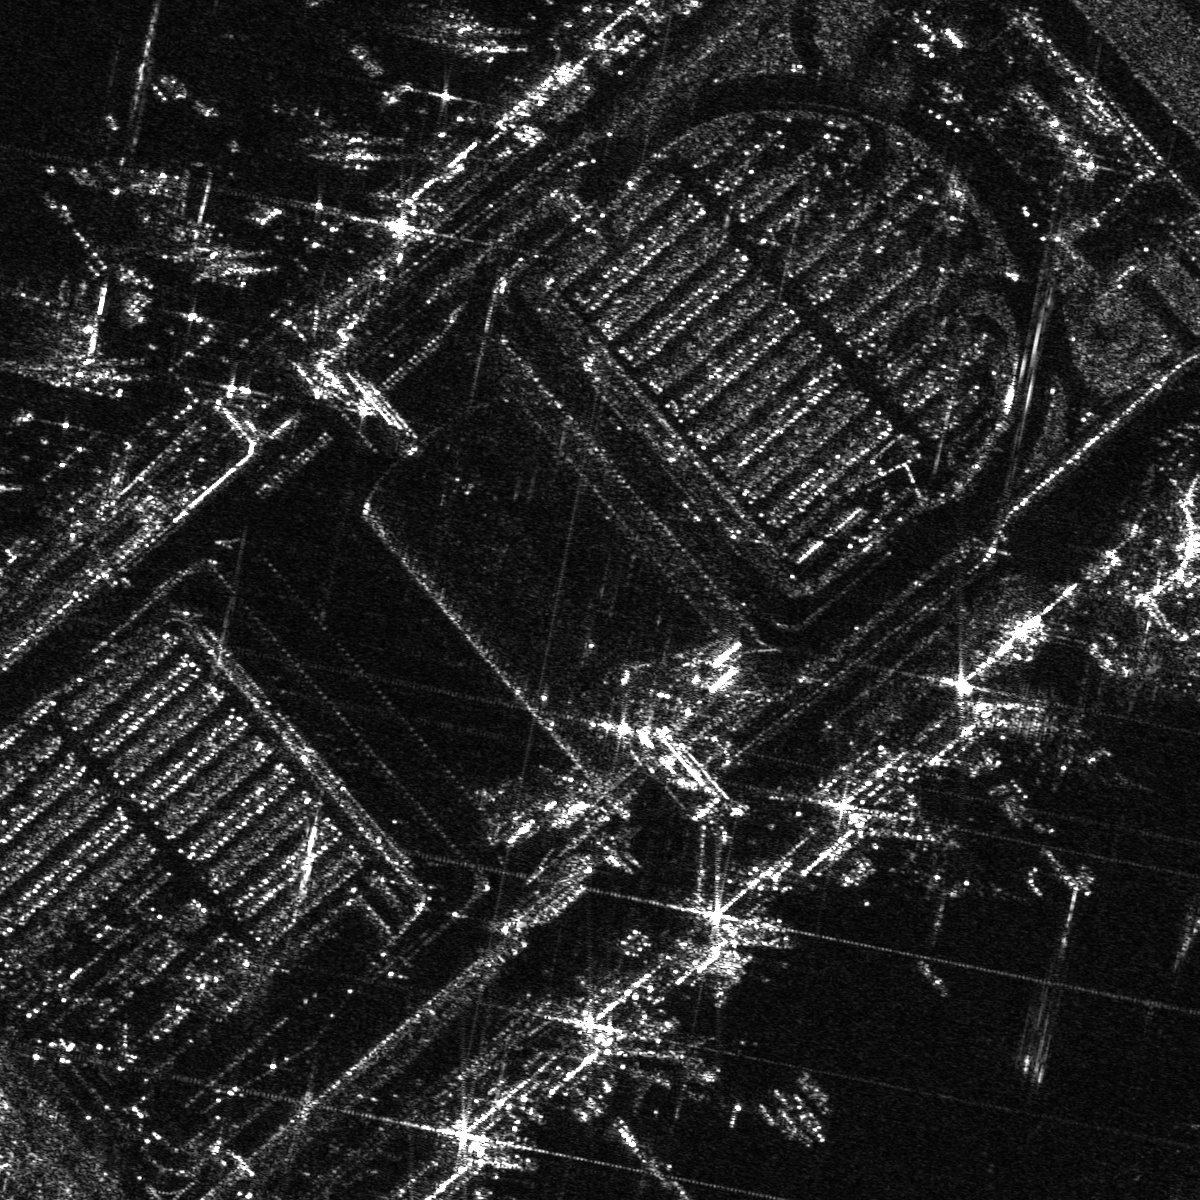A330: (631, 1026, 751, 1126)
Boeing787: (1, 271, 109, 368), (124, 162, 222, 246)
